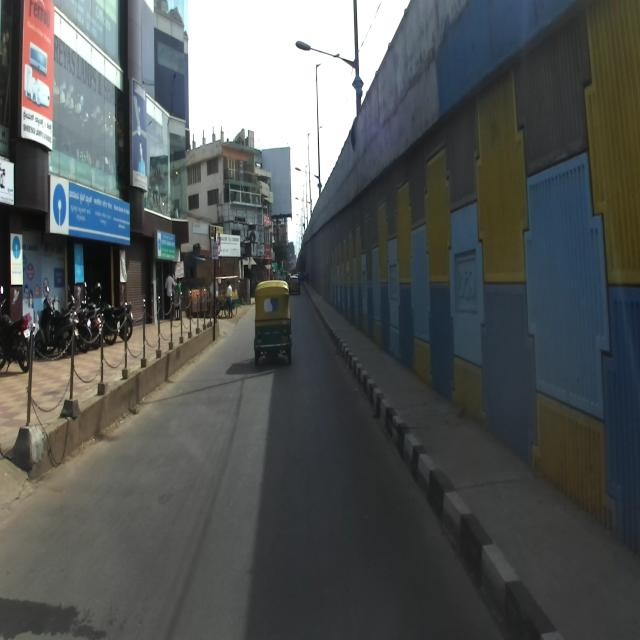auto ahead at: (254, 273, 297, 380)
barrier ahead at: (22, 321, 38, 424), (64, 330, 83, 400)
